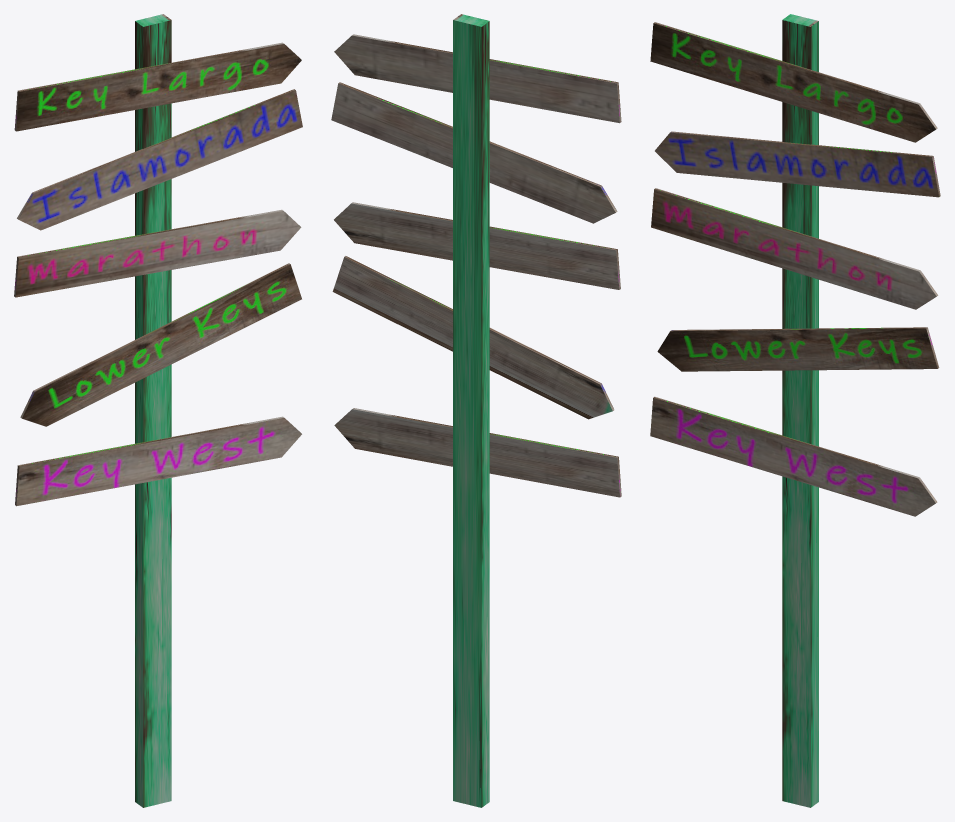
Rendered from SignPost.glb.
3 renders of one model, left to right at view 1: azimuth 30°, elevation 25°; view 2: azimuth 150°, elevation 25°; view 3: azimuth 330°, elevation 25°, orthographic.
Parts seen in each view (by area): view 1: SignPost; view 2: SignPost; view 3: SignPost.
Part boxes in pixels (box(x1,y1,x2,y2)): SignPost: box(14, 14, 302, 807); SignPost: box(331, 14, 621, 807); SignPost: box(650, 14, 940, 807).
Size of the model in its own units: 1.01 by 2.62 by 0.0659.
Materials: 1 (1 with a texture image).
